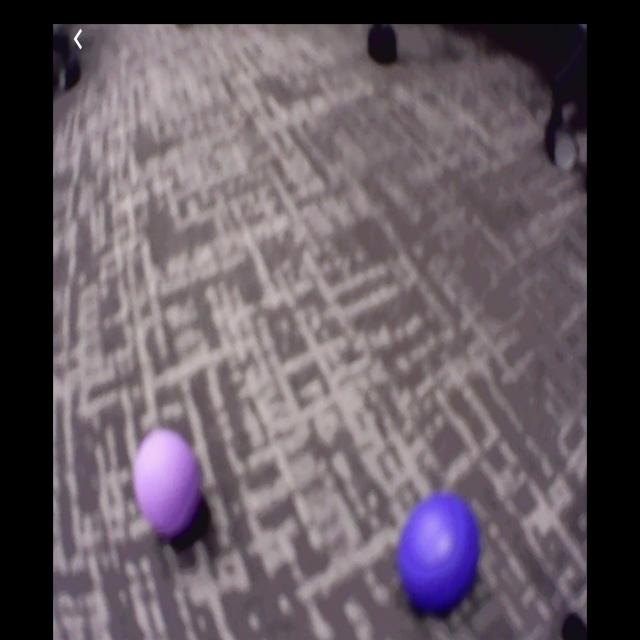ball: (400, 494, 479, 610), (135, 430, 202, 536)
